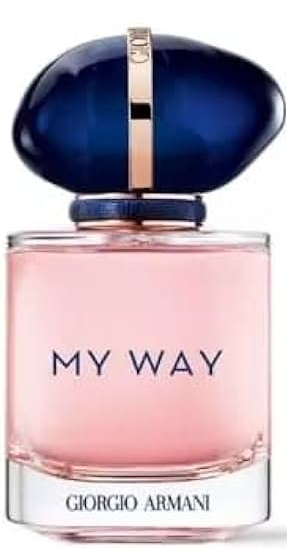armani_my_way_floral: (3, 21, 285, 547)
